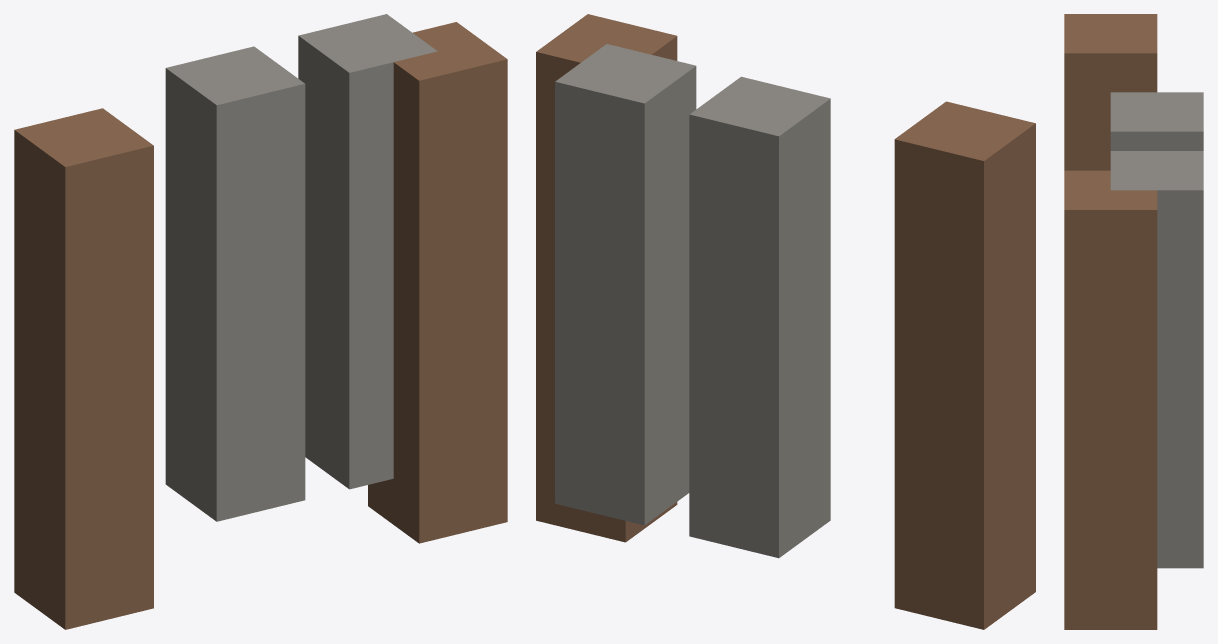
The model's file is armero_oxidado_01.glb.
3 views of the same model, side by side, from view 1: azimuth 30°, elevation 25°; view 2: azimuth 150°, elevation 25°; view 3: azimuth 270°, elevation 25° (orthographic). The views are drawn at different scales.
Parts seen in each view (by area): view 1: armero_oxidado; view 2: armero_oxidado; view 3: armero_oxidado.
Part boxes in pixels (<box>): armero_oxidado: <box>14,14,507,629</box>; armero_oxidado: <box>536,14,1035,629</box>; armero_oxidado: <box>1064,14,1203,629</box>.
Size of the model in its own units: 0.7143 by 0.7143 by 0.2143.
